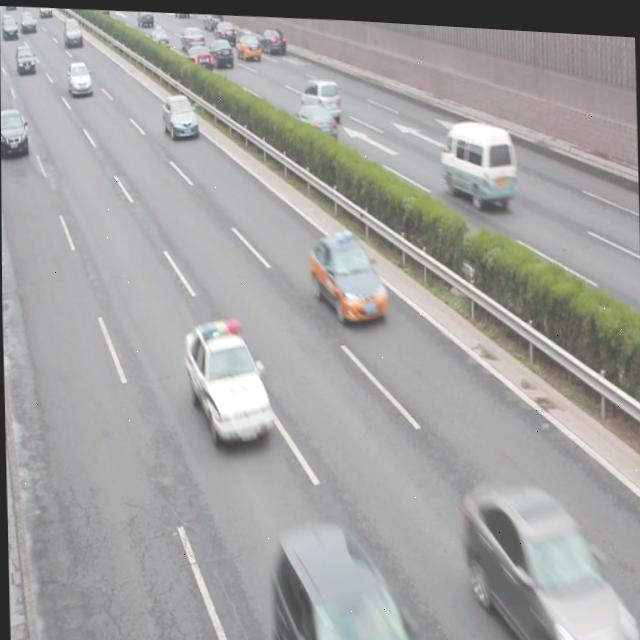car: (461, 473, 638, 640), (269, 520, 428, 640), (182, 312, 272, 448), (308, 225, 387, 324), (160, 88, 197, 140), (292, 98, 335, 141), (300, 70, 339, 112), (1, 107, 28, 157)
truck: (437, 111, 518, 203)
